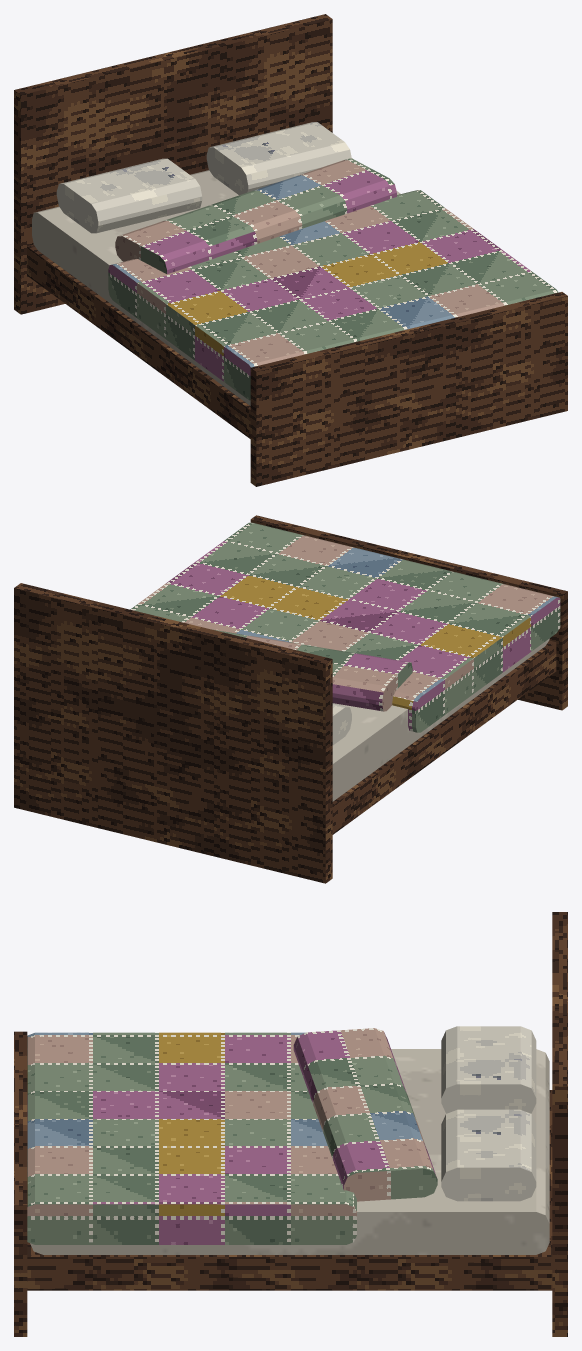
Rendered from RES_Bed_Double_Unmade.obj.
The picture shows the model from 3 angles, top to bottom: view 1: azimuth 30°, elevation 25°; view 2: azimuth 150°, elevation 25°; view 3: azimuth 270°, elevation 25°; orthographic projection. The views are drawn at different scales.
Visible parts, largest first — view 1: RES_Bed_Double_Unmade_Mesh_M_Furn_WoodDark, RES_Bed_Double_Unmade_Mesh_M_Res_Quilt, RES_Bed_Double_Unmade_Mesh_M_Town_PaintWhite, RES_Bed_Double_Unmade_Mesh_M_Int_DrywallLight; view 2: RES_Bed_Double_Unmade_Mesh_M_Furn_WoodDark, RES_Bed_Double_Unmade_Mesh_M_Res_Quilt, RES_Bed_Double_Unmade_Mesh_M_Int_DrywallLight, RES_Bed_Double_Unmade_Mesh_M_Town_PaintWhite; view 3: RES_Bed_Double_Unmade_Mesh_M_Res_Quilt, RES_Bed_Double_Unmade_Mesh_M_Furn_WoodDark, RES_Bed_Double_Unmade_Mesh_M_Int_DrywallLight, RES_Bed_Double_Unmade_Mesh_M_Town_PaintWhite.
Part boxes in pixels (box(x1,y1,x2,y2)): RES_Bed_Double_Unmade_Mesh_M_Furn_WoodDark: box(14, 14, 567, 486); RES_Bed_Double_Unmade_Mesh_M_Res_Quilt: box(108, 158, 558, 400); RES_Bed_Double_Unmade_Mesh_M_Town_PaintWhite: box(56, 122, 351, 233); RES_Bed_Double_Unmade_Mesh_M_Int_DrywallLight: box(32, 158, 400, 405); RES_Bed_Double_Unmade_Mesh_M_Furn_WoodDark: box(14, 515, 567, 883); RES_Bed_Double_Unmade_Mesh_M_Res_Quilt: box(130, 522, 560, 732); RES_Bed_Double_Unmade_Mesh_M_Int_DrywallLight: box(332, 638, 549, 801); RES_Bed_Double_Unmade_Mesh_M_Town_PaintWhite: box(332, 703, 351, 745); RES_Bed_Double_Unmade_Mesh_M_Res_Quilt: box(27, 1028, 437, 1244); RES_Bed_Double_Unmade_Mesh_M_Furn_WoodDark: box(14, 912, 567, 1336); RES_Bed_Double_Unmade_Mesh_M_Int_DrywallLight: box(30, 1049, 549, 1254); RES_Bed_Double_Unmade_Mesh_M_Town_PaintWhite: box(441, 1026, 536, 1201).
Bounding box in the file's own units: 1.56 × 1.05 × 2.1.
4 materials, 4 textured.
